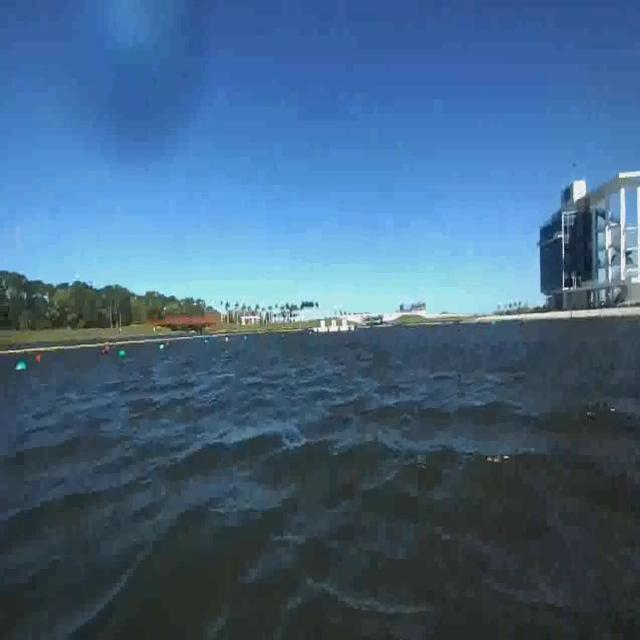green-buoy: (15, 361, 28, 370), (118, 350, 126, 358)
